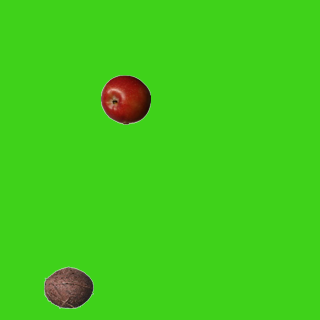Apple Braeburn: (100, 74, 150, 124)
Cocos: (43, 262, 93, 312)
